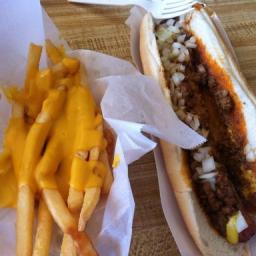hotdog: (178, 86, 218, 180), (205, 179, 254, 241)
